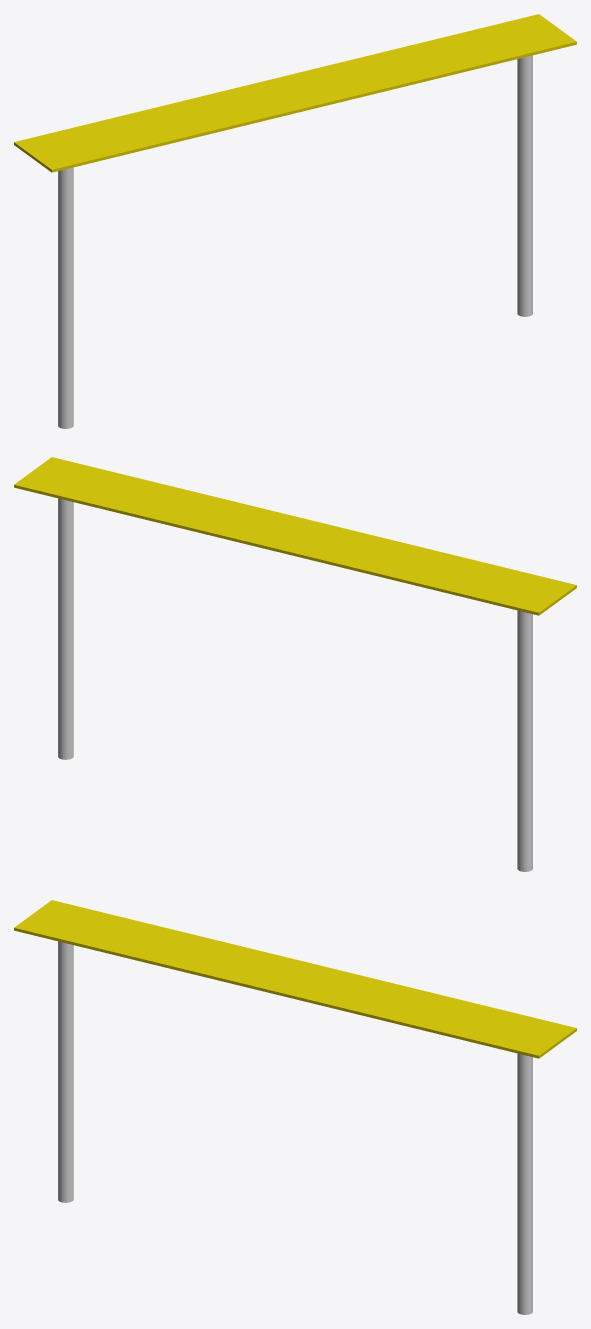
Rendered from break.dae.
3 renders of one model, top to bottom at view 1: azimuth 30°, elevation 25°; view 2: azimuth 150°, elevation 25°; view 3: azimuth 330°, elevation 25°, orthographic.
Parts seen in each view (by area): view 1: ShapeIndexedFaceSet; view 2: ShapeIndexedFaceSet; view 3: ShapeIndexedFaceSet.
Part boxes in pixels (<box>): ShapeIndexedFaceSet: <box>14,14,576,428</box>; ShapeIndexedFaceSet: <box>14,457,576,871</box>; ShapeIndexedFaceSet: <box>14,900,576,1314</box>.
Size of the model in its own units: 1.22 by 0.1524 by 0.6159.
